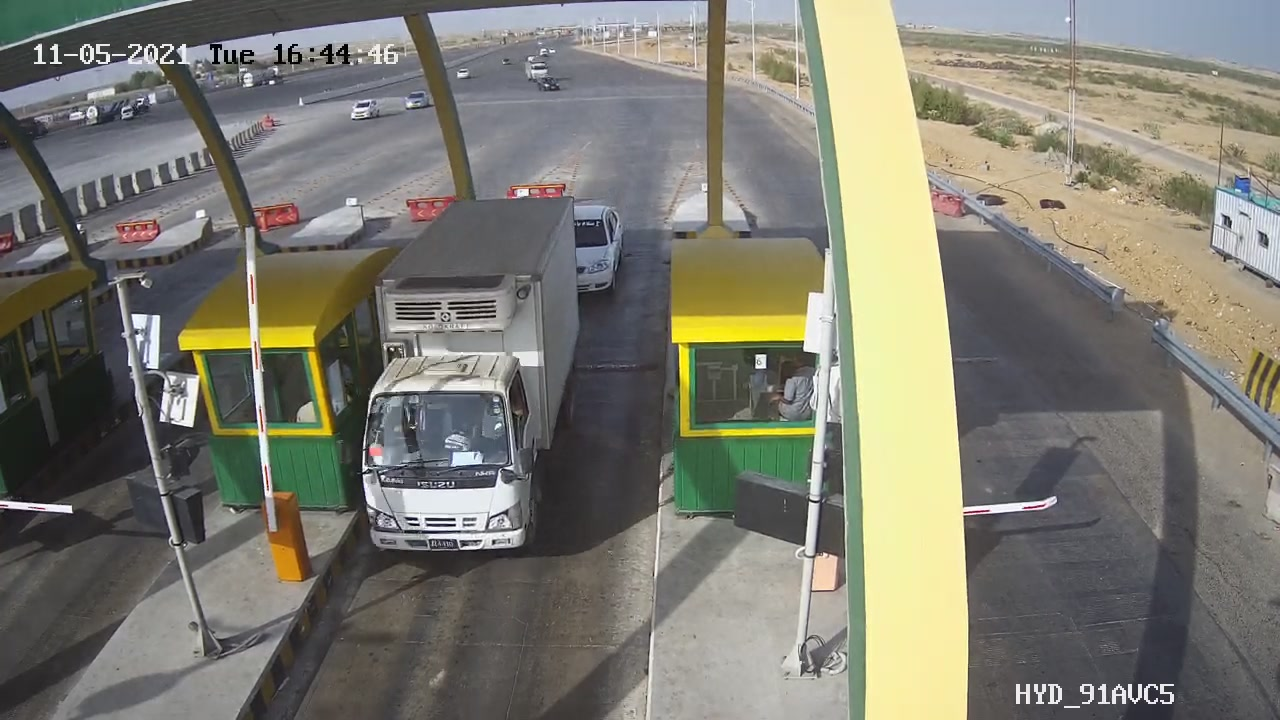F5: (326, 185, 603, 581)
